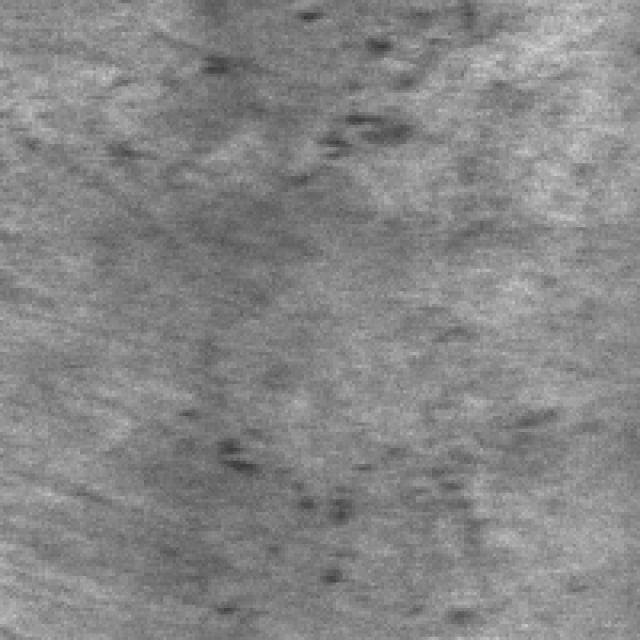rolled-in_scale: (198, 394, 570, 595), (173, 0, 531, 163)
